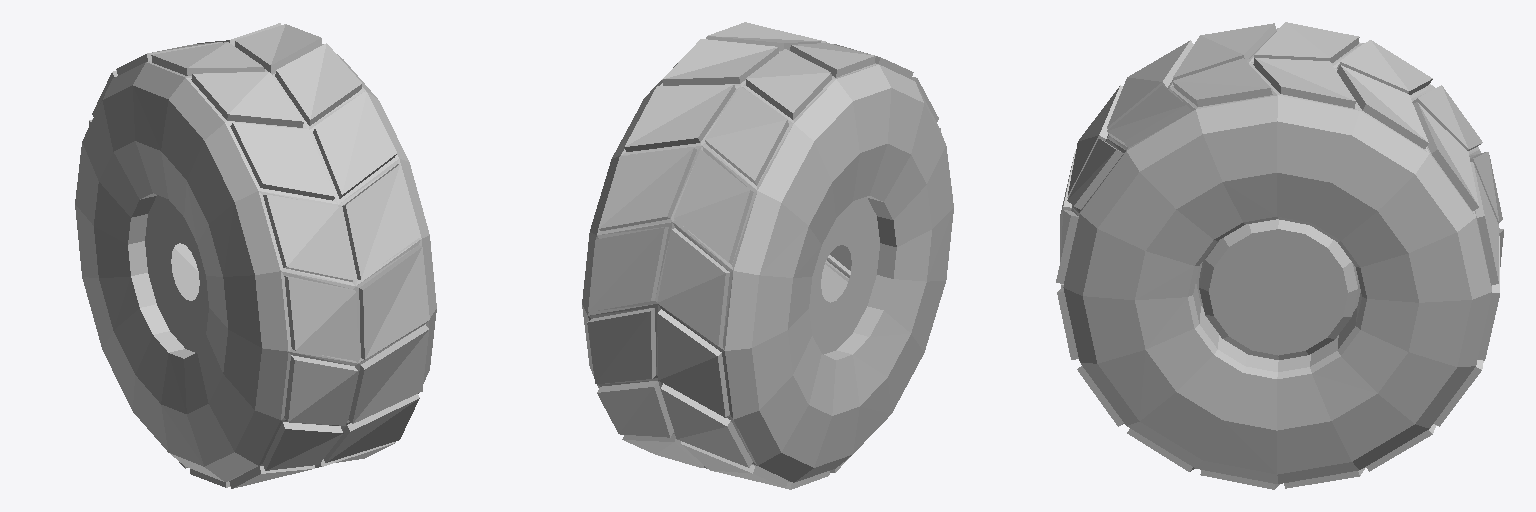
File: Jeep_wheel_back_R.obj
The picture shows the model from 3 angles: view 1: azimuth 30°, elevation 25°; view 2: azimuth 150°, elevation 25°; view 3: azimuth 270°, elevation 25°; orthographic projection.
Visible parts, largest first — view 1: Jeep_default; view 2: Jeep_default; view 3: Jeep_default.
Part boxes in pixels (left/top/right/bottom): Jeep_default: left=75, top=23, right=436, bottom=488; Jeep_default: left=582, top=22, right=953, bottom=489; Jeep_default: left=1056, top=22, right=1503, bottom=489.
Size of the model in its own units: 2.1 by 4.22 by 4.25.